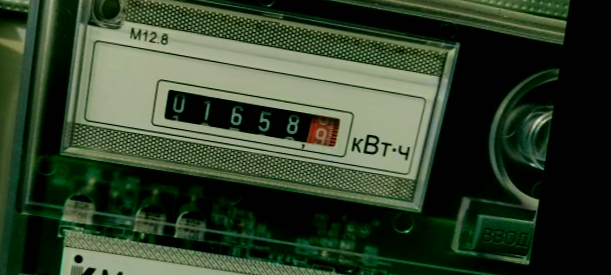0: (171, 90, 187, 114)
1: (200, 97, 213, 121)
5: (256, 107, 274, 132)
6: (228, 102, 245, 126)
8: (284, 110, 301, 134)
9: (311, 124, 328, 146)
screen: (144, 71, 362, 163)
